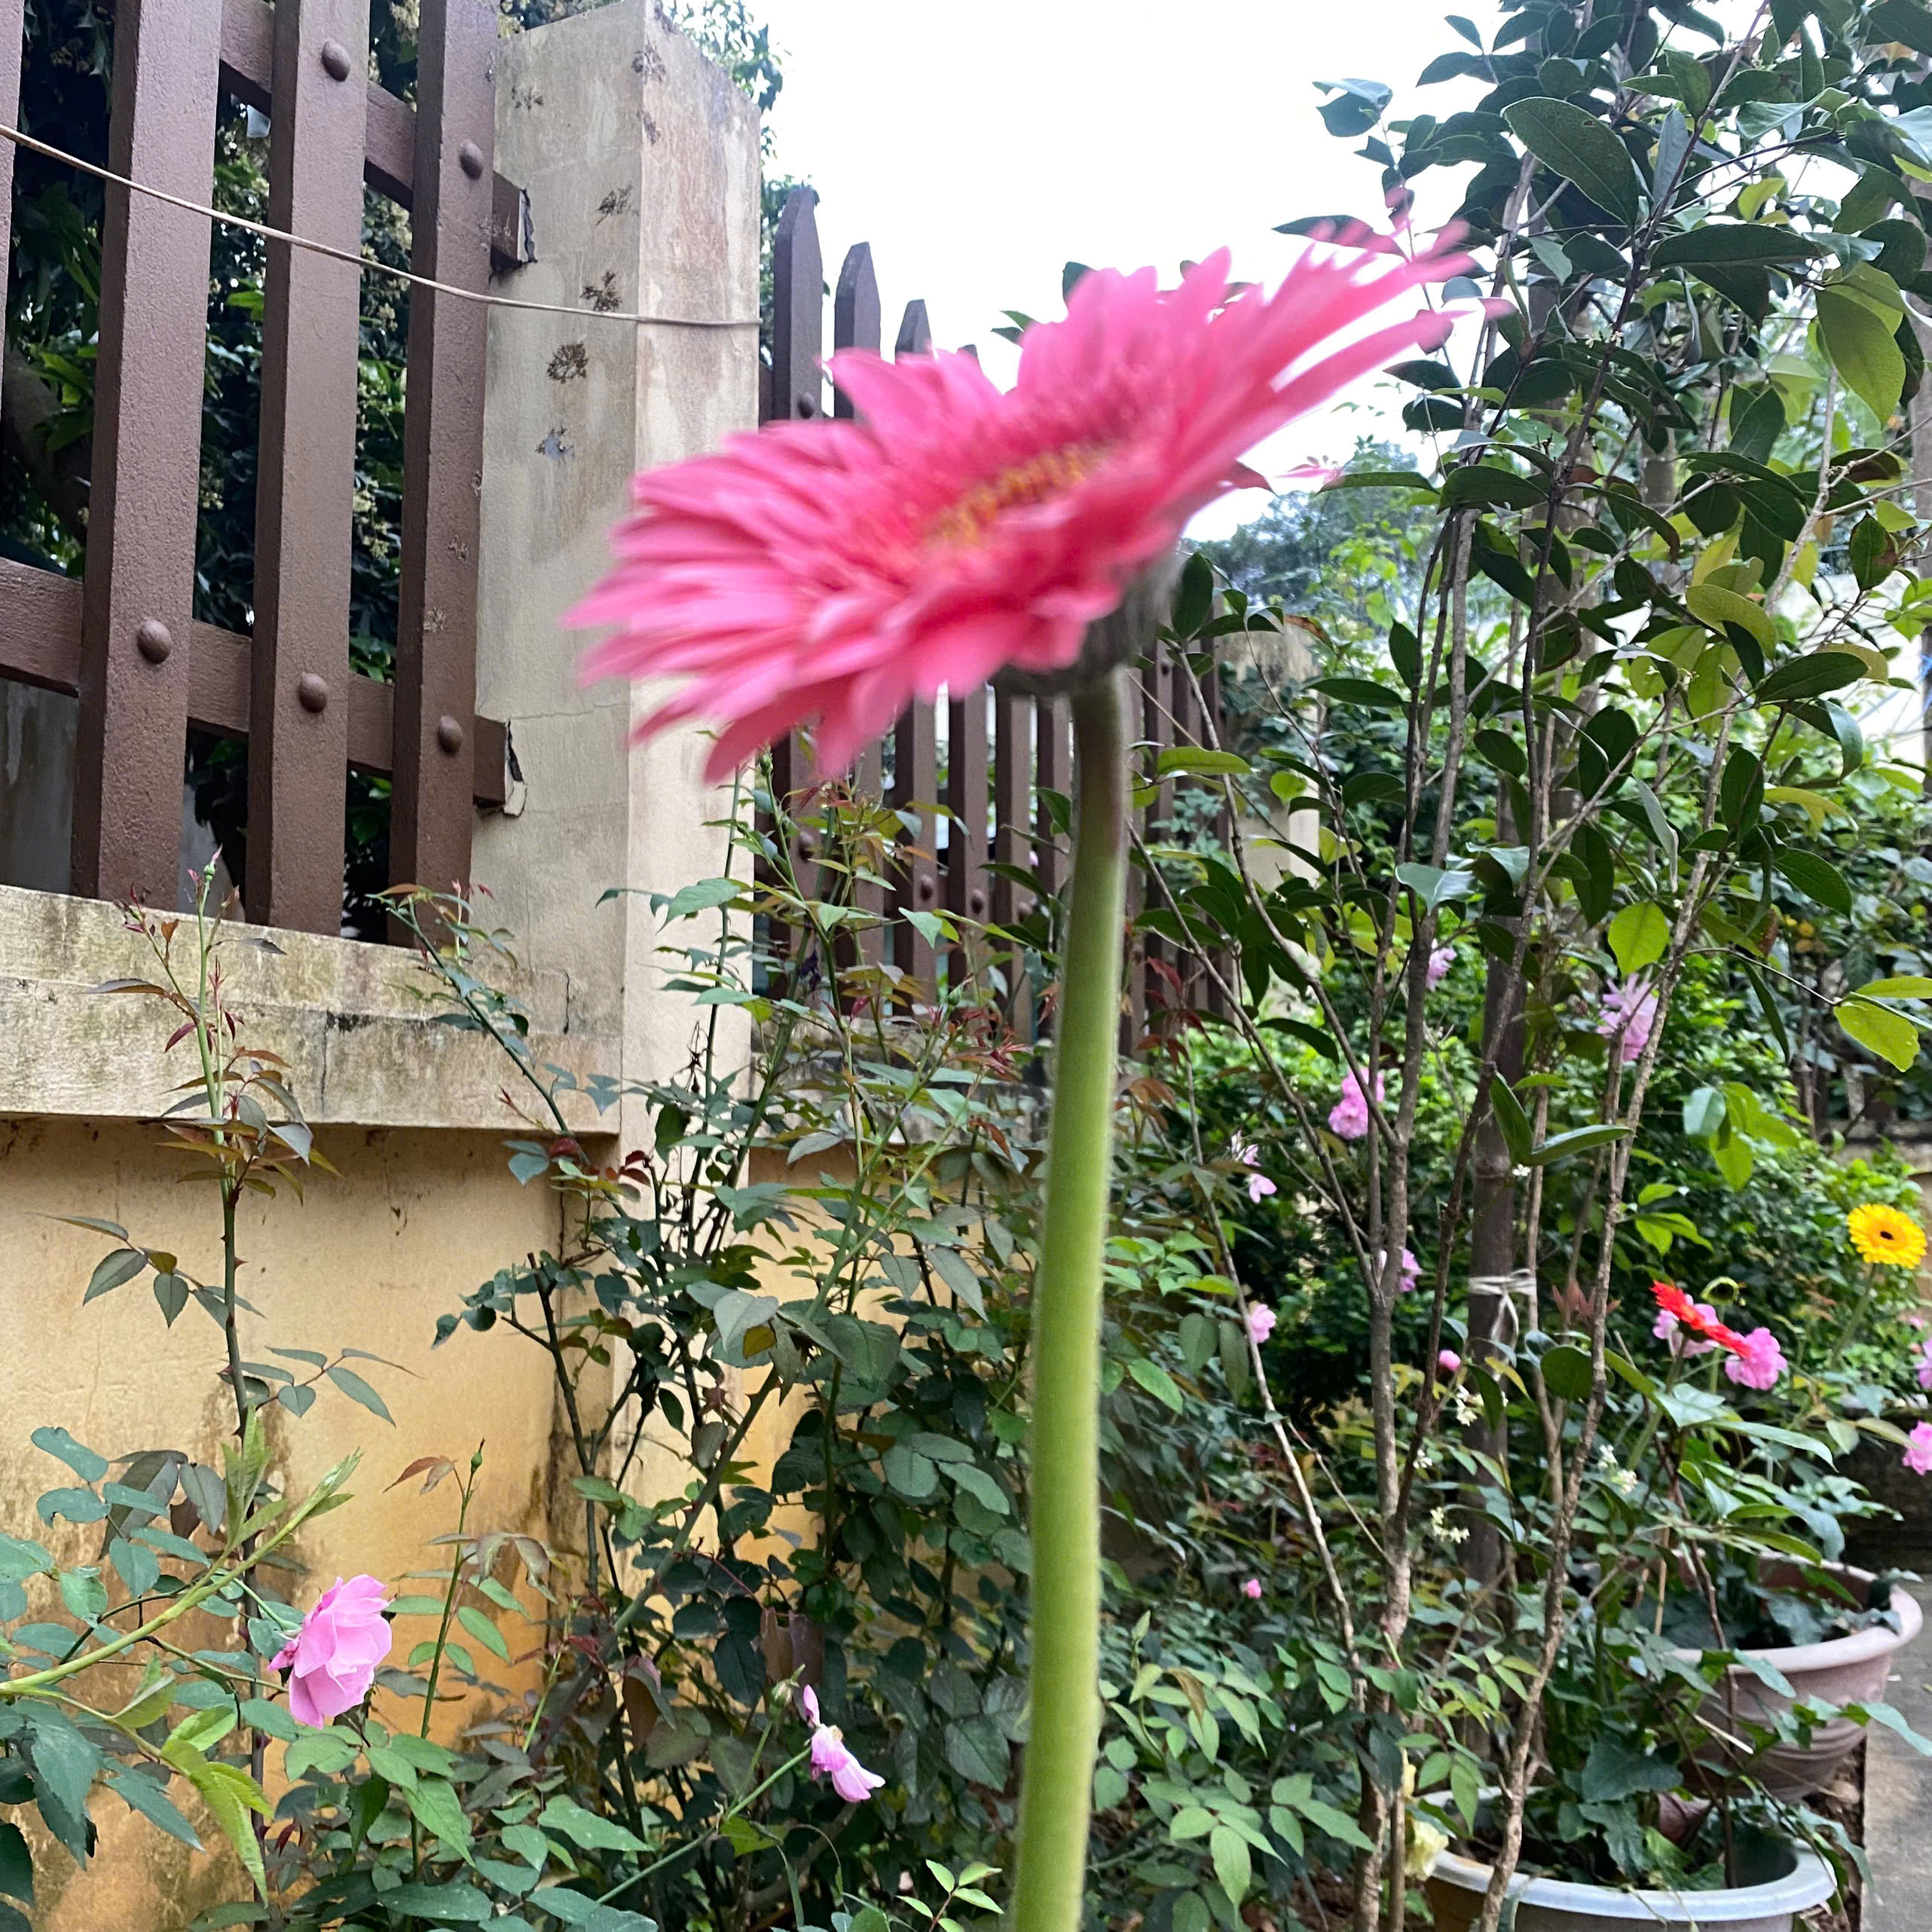hoa_huong_duong: (554, 203, 1449, 1932)
